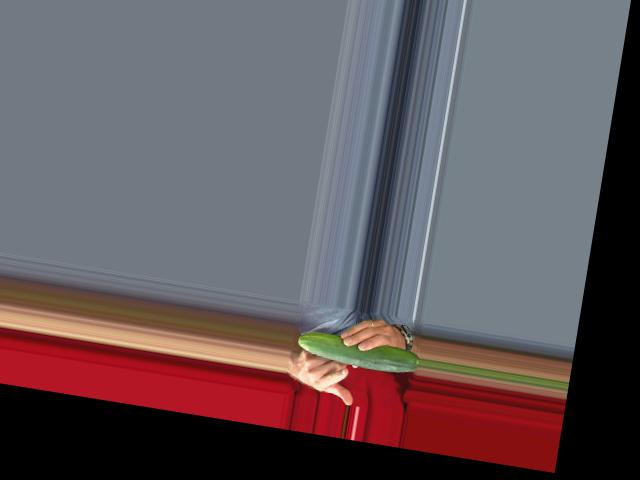cucumber: (295, 328, 421, 376)
